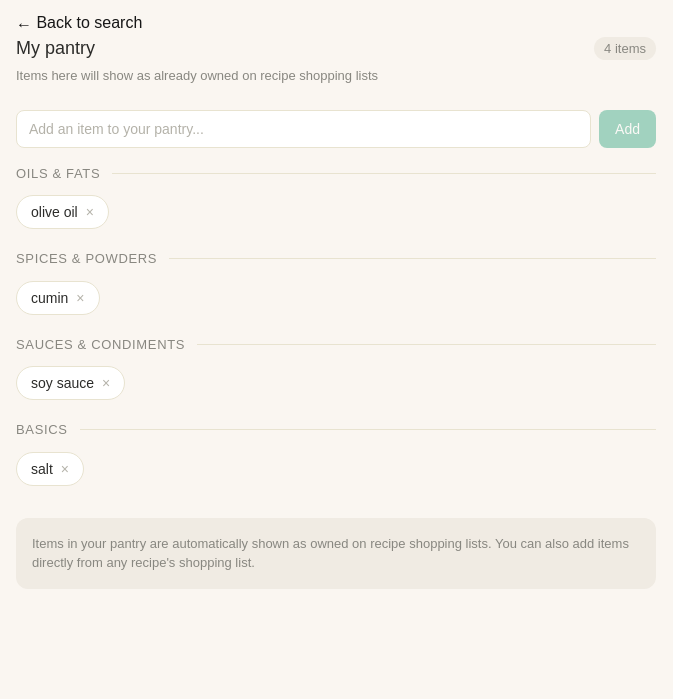
Test: PantryPage › shows undo toast when item is removed
What coordinates should you click on to do the following:
click the button named "Remove olive oil"
I would click on:
 (90, 212)
Its box is [86,205,94,219].
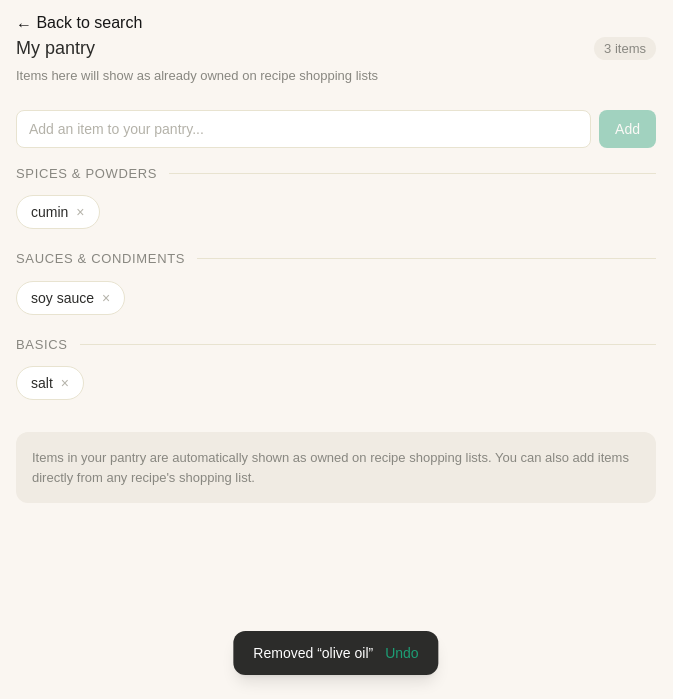
Expected: the text "Removed “olive oil”" is shown, [253,643,373,663]
Expected: the button "Undo" is shown, [385,643,419,663]
